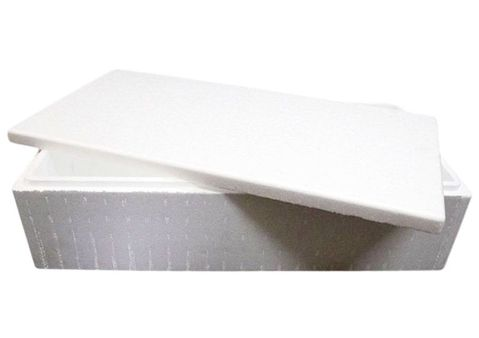Boxes: (8, 71, 470, 271)
